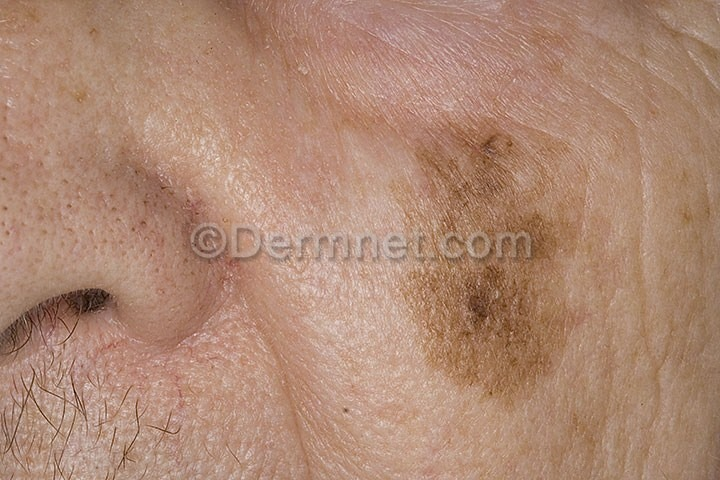Melasma: (355, 272, 594, 390), (378, 103, 575, 226)
